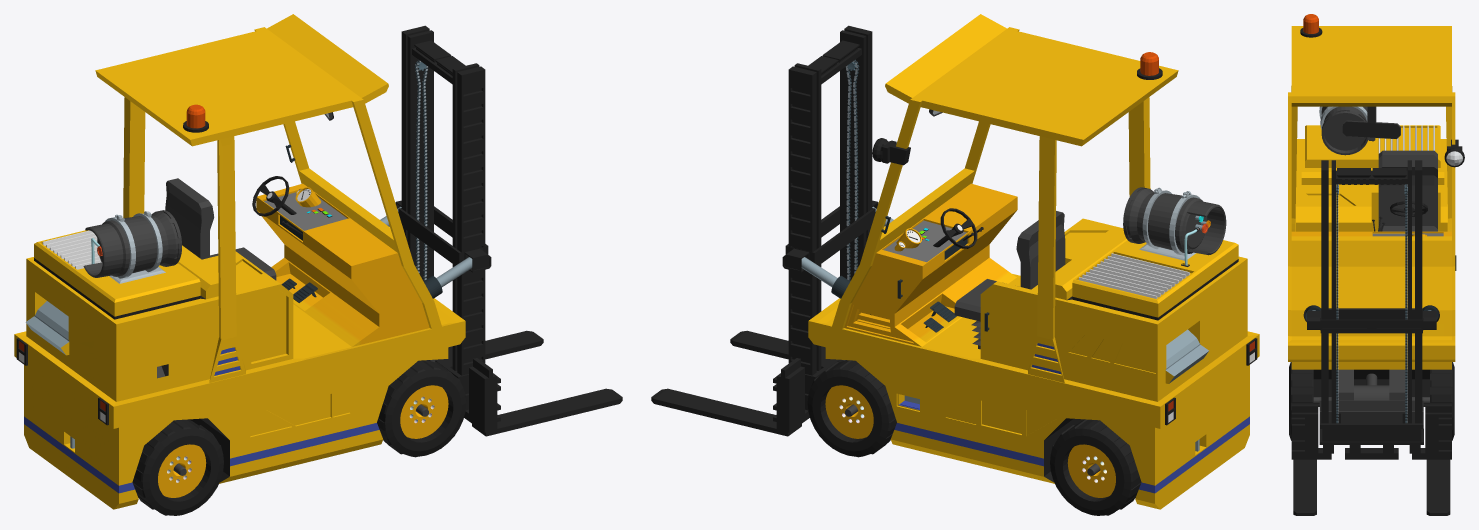
The model's file is Forklift.fbx.
3 renders of one model, left to right at view 1: azimuth 30°, elevation 25°; view 2: azimuth 150°, elevation 25°; view 3: azimuth 270°, elevation 25°, orthographic. The views are drawn at different scales.
Parts seen in each view (by area): view 1: forklift:Mesh; view 2: forklift:Mesh; view 3: forklift:Mesh.
Boxes of the visible parts, <box> form: forklift:Mesh: <box>14,14,622,515</box>; forklift:Mesh: <box>651,14,1259,515</box>; forklift:Mesh: <box>1288,14,1464,515</box>.
Bounding box in the file's own units: 7.22 × 5.26 × 2.54.
